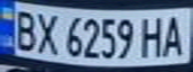2: (78, 13, 103, 60)
5: (100, 15, 121, 60)
6: (60, 12, 84, 57)
9: (115, 15, 139, 60)
A: (157, 11, 190, 57)
B: (9, 7, 39, 52)
H: (136, 14, 166, 58)
X: (33, 9, 60, 55)
